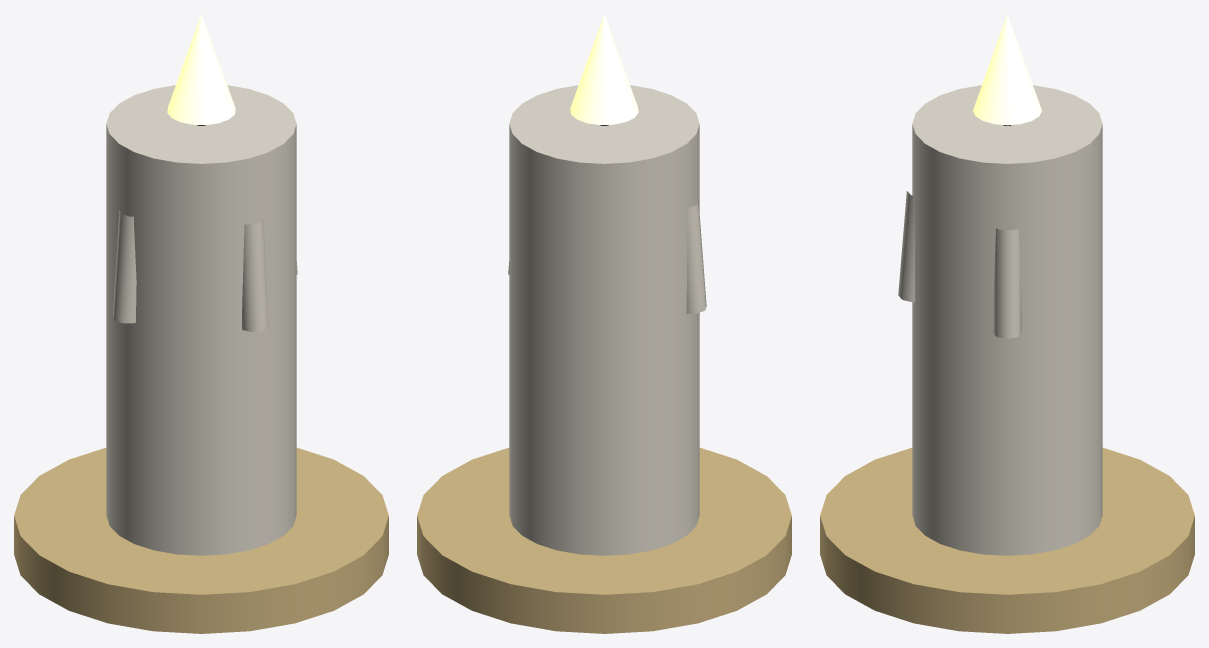
File: paranormal-investigation-house-candle-4baff3b3__26792.glb
The picture shows the model from 3 angles, left to right: view 1: azimuth 30°, elevation 25°; view 2: azimuth 150°, elevation 25°; view 3: azimuth 270°, elevation 25°; orthographic projection.
Visible parts, largest first — view 1: candle; view 2: candle; view 3: candle.
Boxes of the visible parts, box(x1,y1,x2,y2) form: candle: box(14, 14, 388, 633); candle: box(417, 14, 791, 633); candle: box(820, 14, 1194, 633).
Size of the model in its own units: 0.13 by 0.207 by 0.13.
